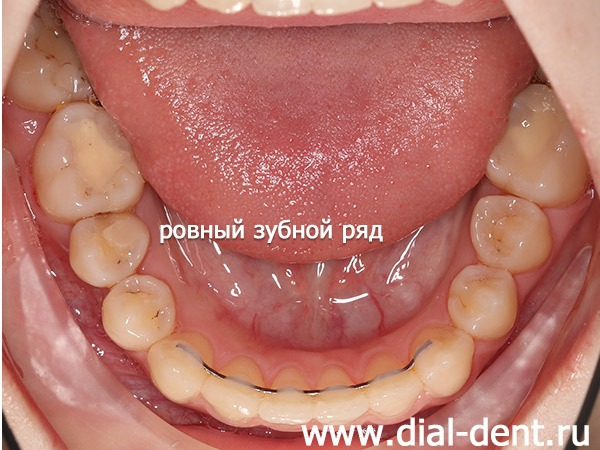LL1BC_healthy: (449, 265, 518, 335)
LL1M_healthy: (490, 87, 581, 201)
LL2BC_decay: (471, 197, 553, 267)
LLCI_decay: (316, 369, 366, 421)
LLC_decay: (413, 330, 473, 392)
LLLI_decay: (366, 356, 421, 414)
LR1BC_decay: (102, 275, 173, 347)
LR1M_decay: (36, 102, 143, 214)
LR2BC_decay: (71, 212, 148, 284)
LR2M_decay: (16, 26, 85, 106)
LRCI_decay: (265, 369, 315, 422)
LRC_decay: (150, 333, 212, 401)
LRLI_decay: (210, 360, 264, 422)
